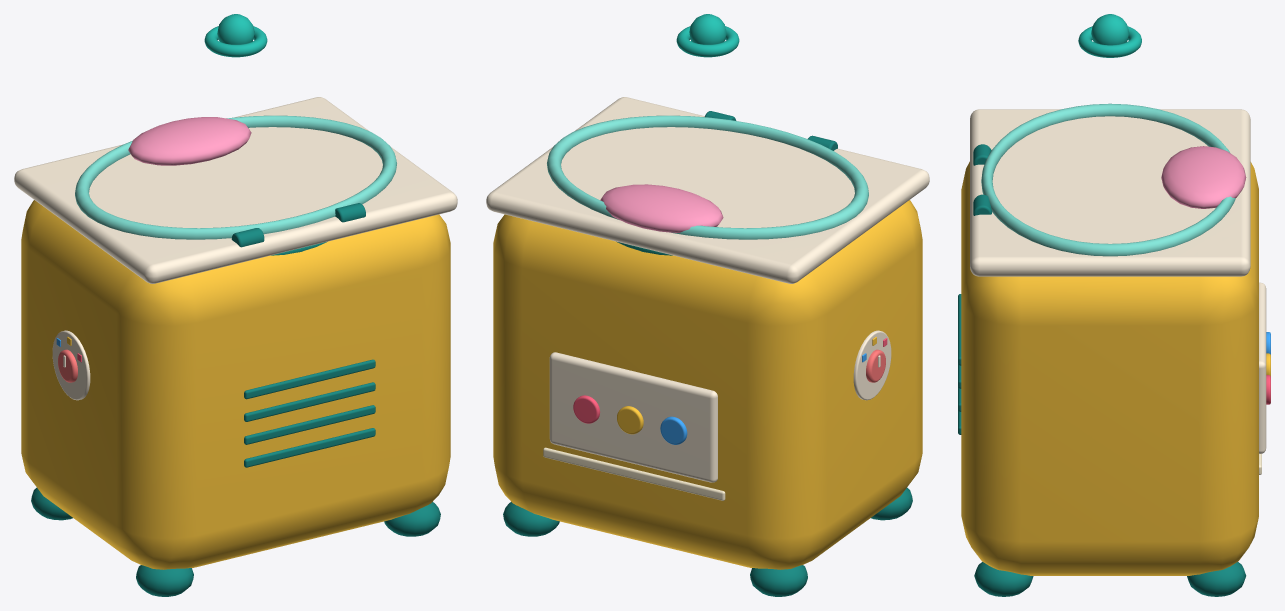
Rendered from Incubator.fbx.
3 views of the same model, side by side, from view 1: azimuth 30°, elevation 25°; view 2: azimuth 150°, elevation 25°; view 3: azimuth 270°, elevation 25° (orthographic).
Parts seen in each view (by area): view 1: Incubator mesh; view 2: Incubator mesh; view 3: Incubator mesh.
Boxes of the visible parts, x1,y1,x2,y2 form: Incubator mesh: (14,14,457,596); Incubator mesh: (486,14,929,596); Incubator mesh: (958,14,1270,596).
Bounding box in the file's own units: 0.924 × 1.34 × 0.736.
